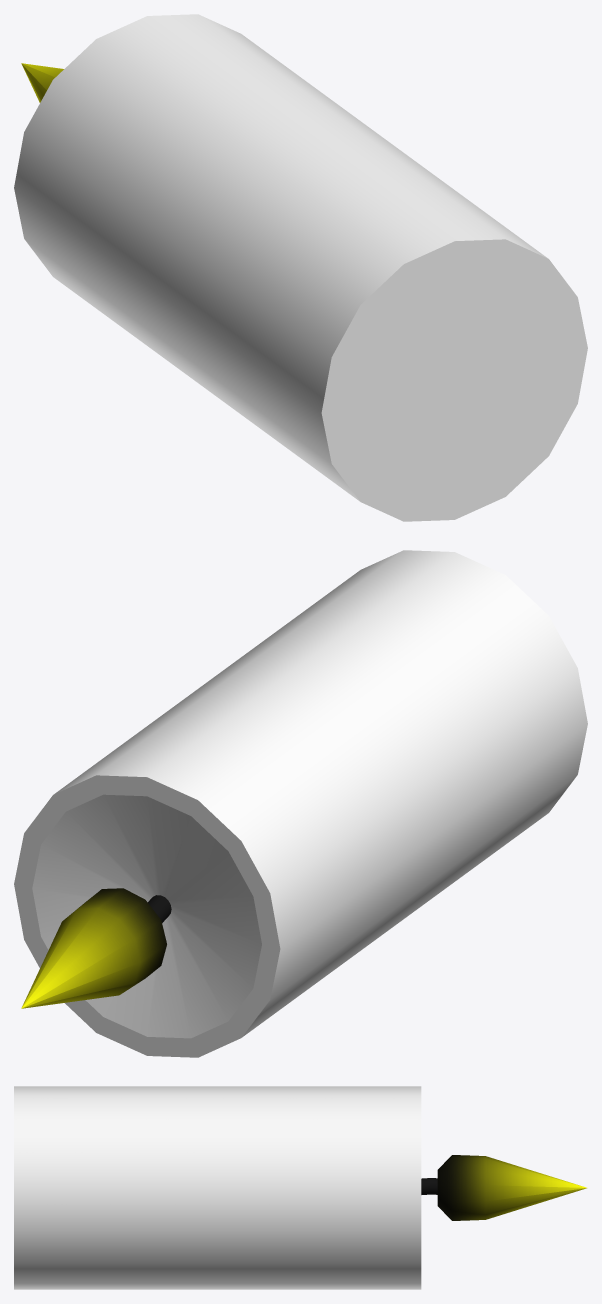
Rendered from Fit_LaZhu_1X1_on.FBX.
3 renders of one model, top to bottom at view 1: azimuth 30°, elevation 25°; view 2: azimuth 150°, elevation 25°; view 3: azimuth 270°, elevation 25°, orthographic. The views are drawn at different scales.
Visible parts, largest first — view 1: Box002; view 2: Box002; view 3: Box002.
Part boxes in pixels (x1=…): Box002: x1=14, y1=14, x2=587, y2=521; Box002: x1=14, y1=550, x2=587, y2=1057; Box002: x1=14, y1=1086, x2=586, y2=1289.
Size of the model in its own units: 0.5 by 1.41 by 0.5.
